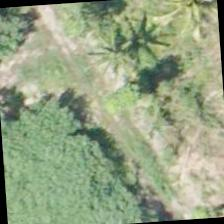Kelapa_Sawit: (126, 162, 220, 222), (133, 0, 220, 62)
